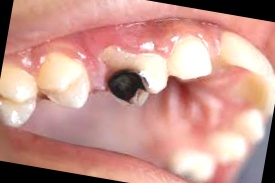Caries: (101, 65, 155, 108)
